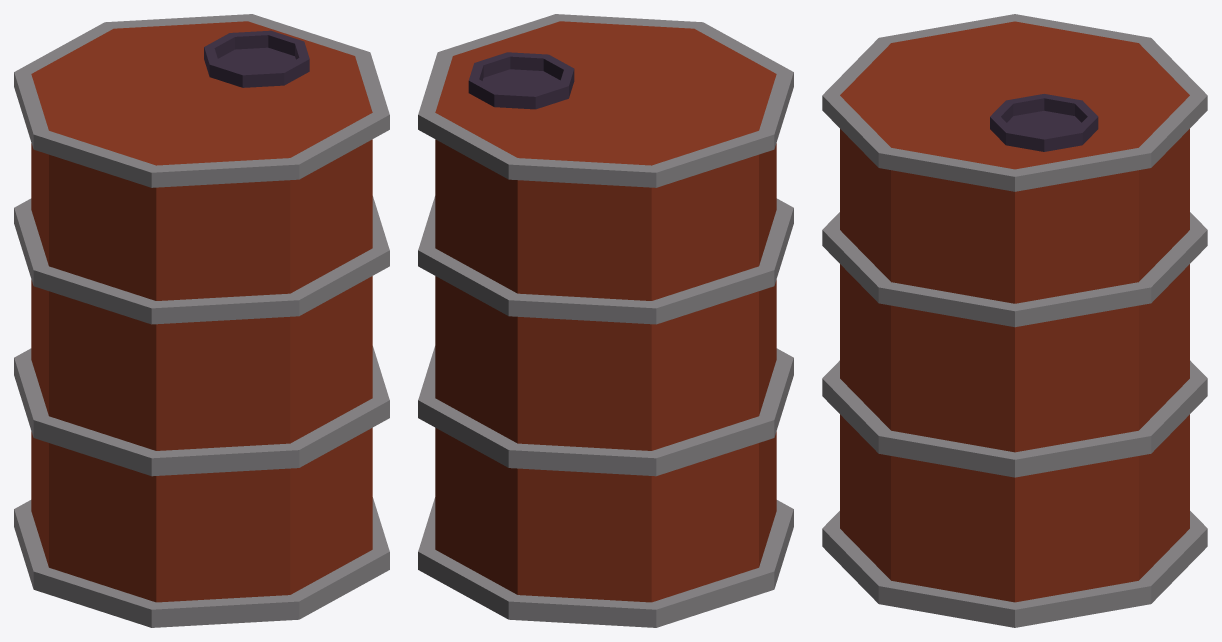
File: бочка.fbx
The picture shows the model from 3 angles, left to right: view 1: azimuth 30°, elevation 25°; view 2: azimuth 150°, elevation 25°; view 3: azimuth 270°, elevation 25°; orthographic projection.
Visible parts, largest first — view 1: Бочка; view 2: Бочка; view 3: Бочка.
Boxes of the visible parts, x1,y1,x2,y2 form: Бочка: [14, 14, 389, 627]; Бочка: [418, 14, 793, 627]; Бочка: [822, 14, 1207, 627].
Bounding box in the file's own units: 2.66 × 3.53 × 2.66.
